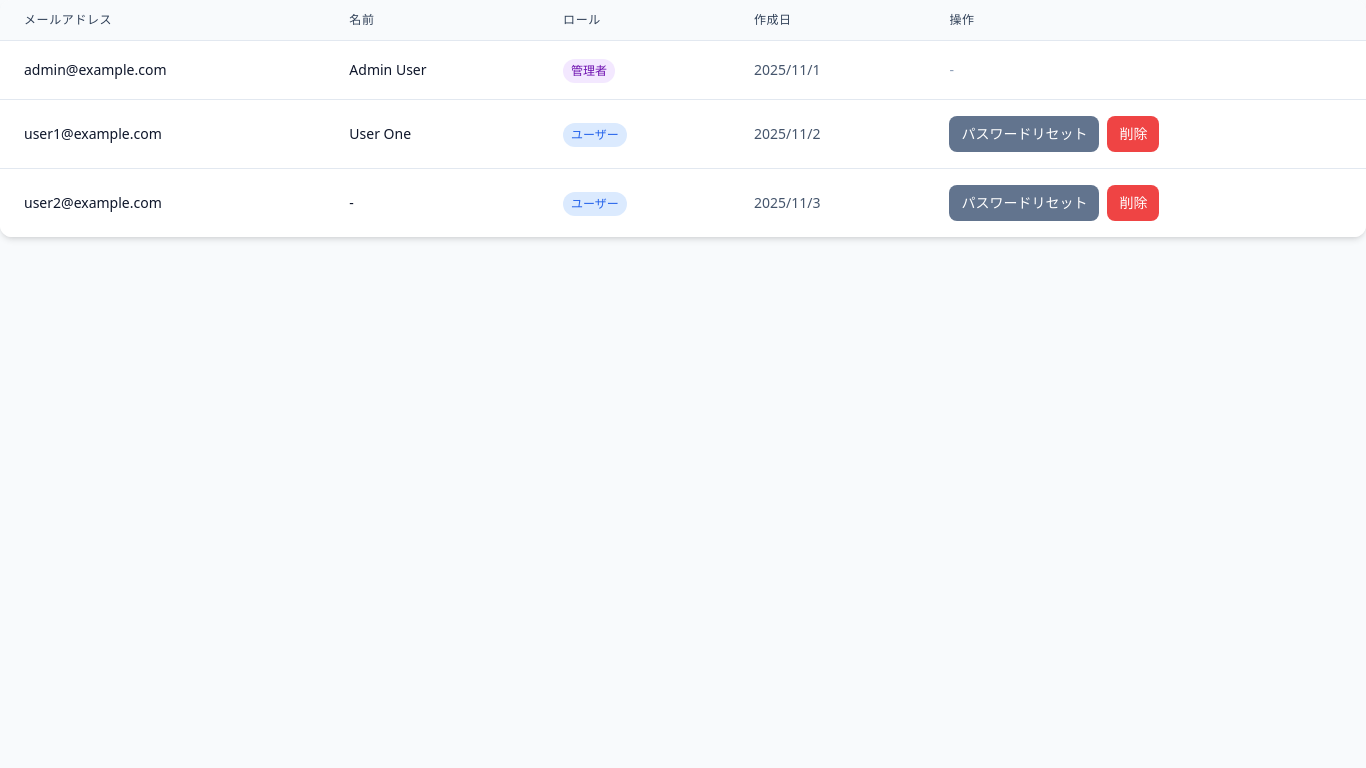
it: UserList › Delete Functionality › should show error alert on deletion failure
The width and height of the screenshot is (1366, 768).
Click the button "削除" in the row of "user1@example.com" at (1133, 134), box [1107,116,1159,152]
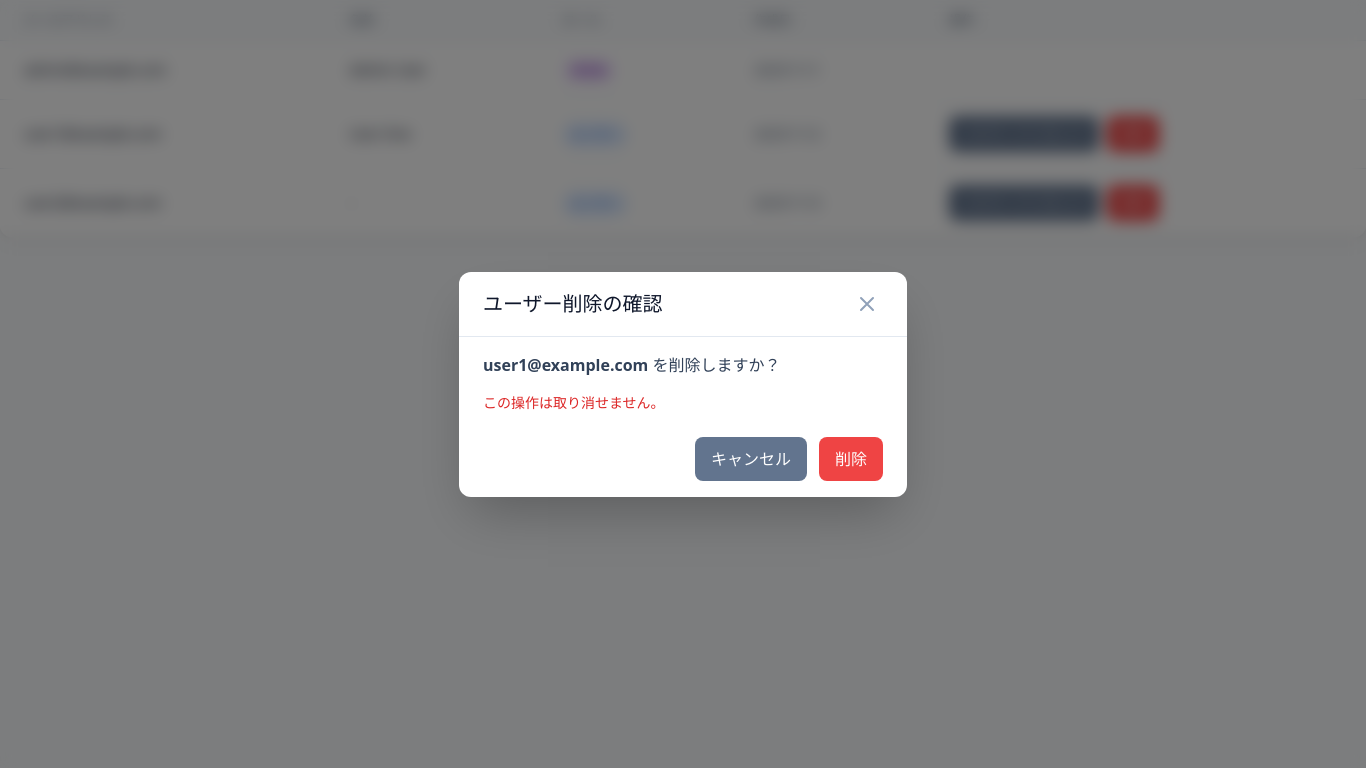
Expected: the dialog is shown
Click the button "削除" at (851, 458), box [819,436,883,480]
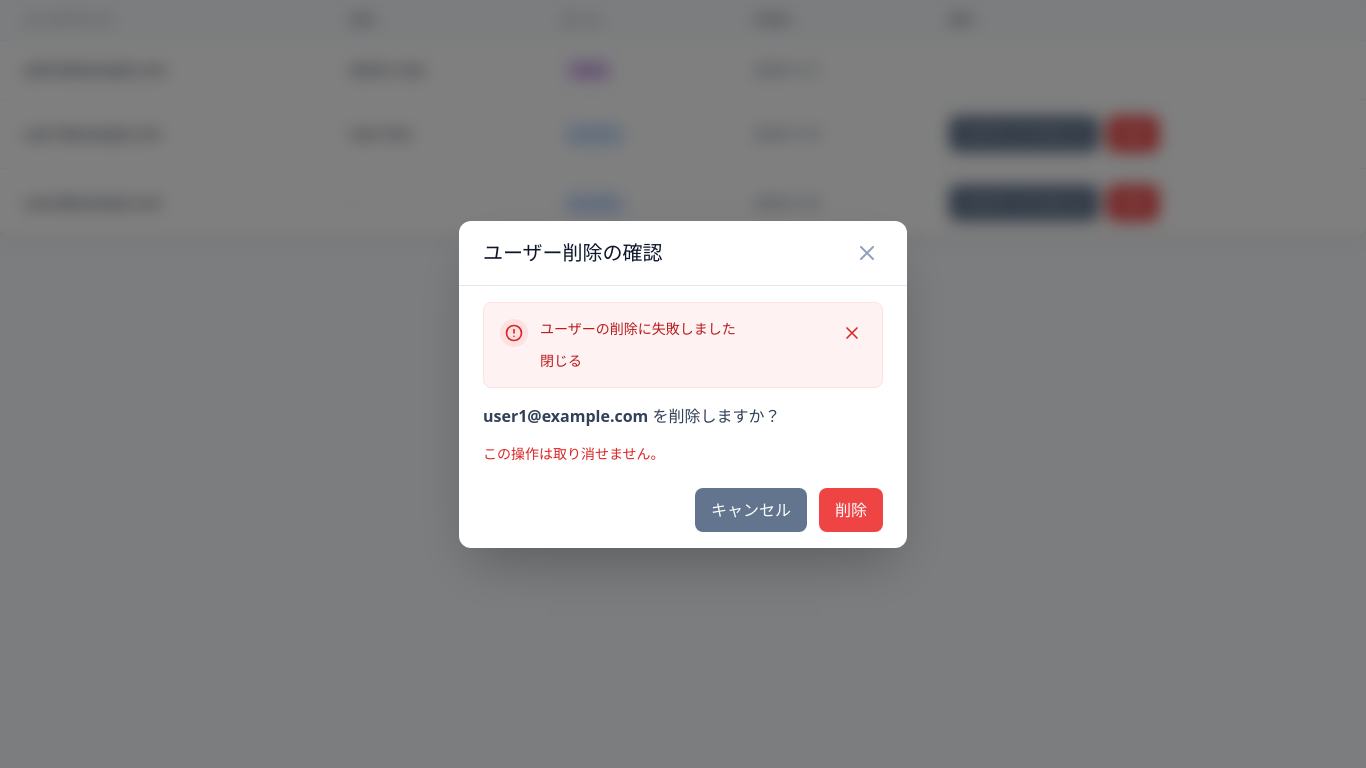
Expected: the message shows "ユーザーの削除に失敗しました", [540,318,736,338]
